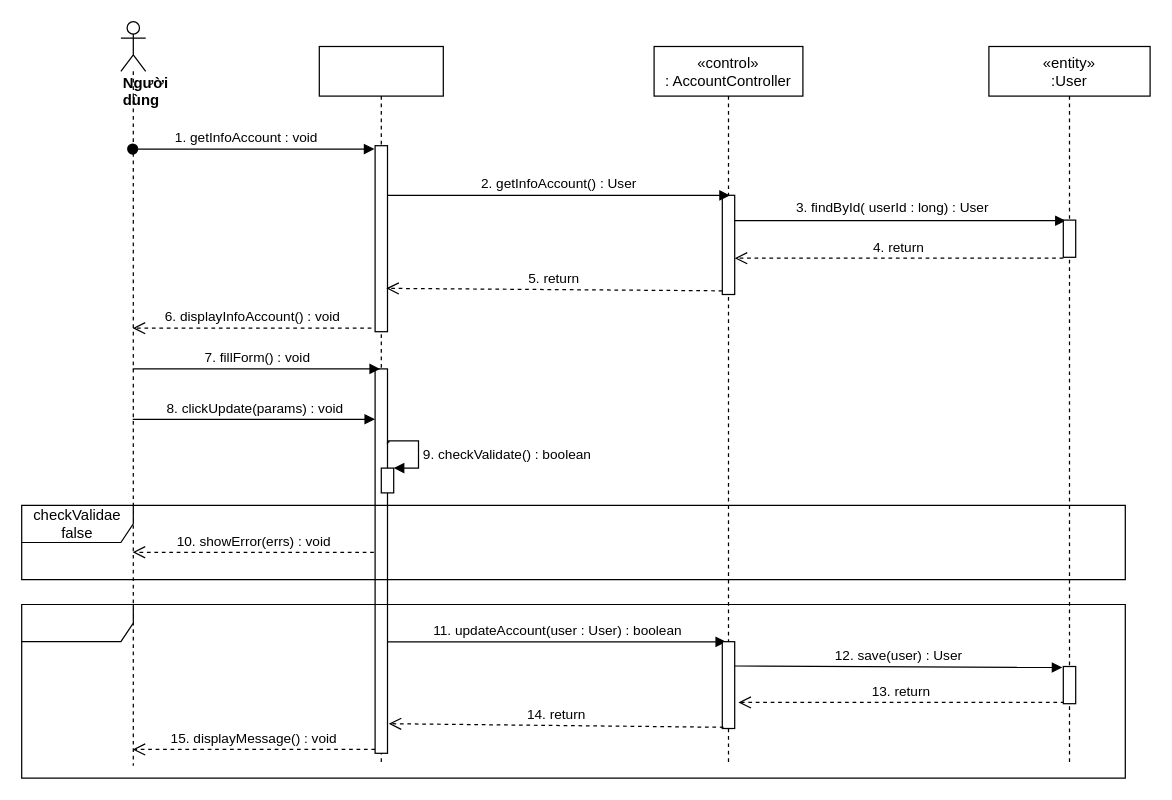
Image size: 1172x800. Some labels were removed from this diagram. The shapes that lost their labels are listed below. From the top down, each one's box as (x1, y1, x2, y2) in pixels, then its label:
(318, 45, 443, 766): «boundary» :AccountView
(20, 603, 1125, 778): checkValidae true
